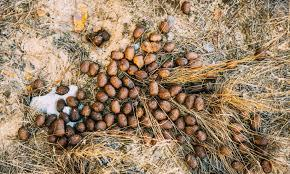Elk: (104, 56, 194, 124), (50, 91, 101, 135), (128, 26, 169, 52)
